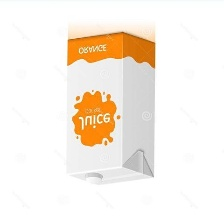carton: (58, 24, 164, 192)
